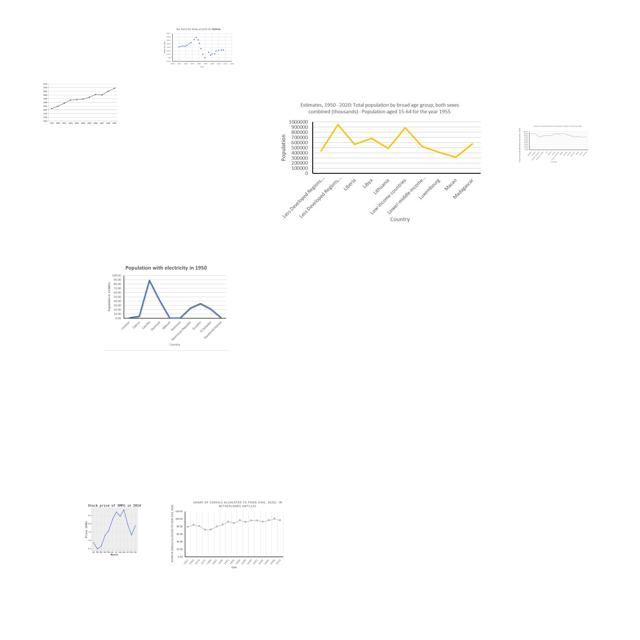Graph: (274, 98, 485, 224), (103, 262, 229, 351), (168, 499, 286, 572), (76, 501, 151, 557), (42, 81, 119, 125), (161, 26, 235, 70), (517, 123, 592, 164)
